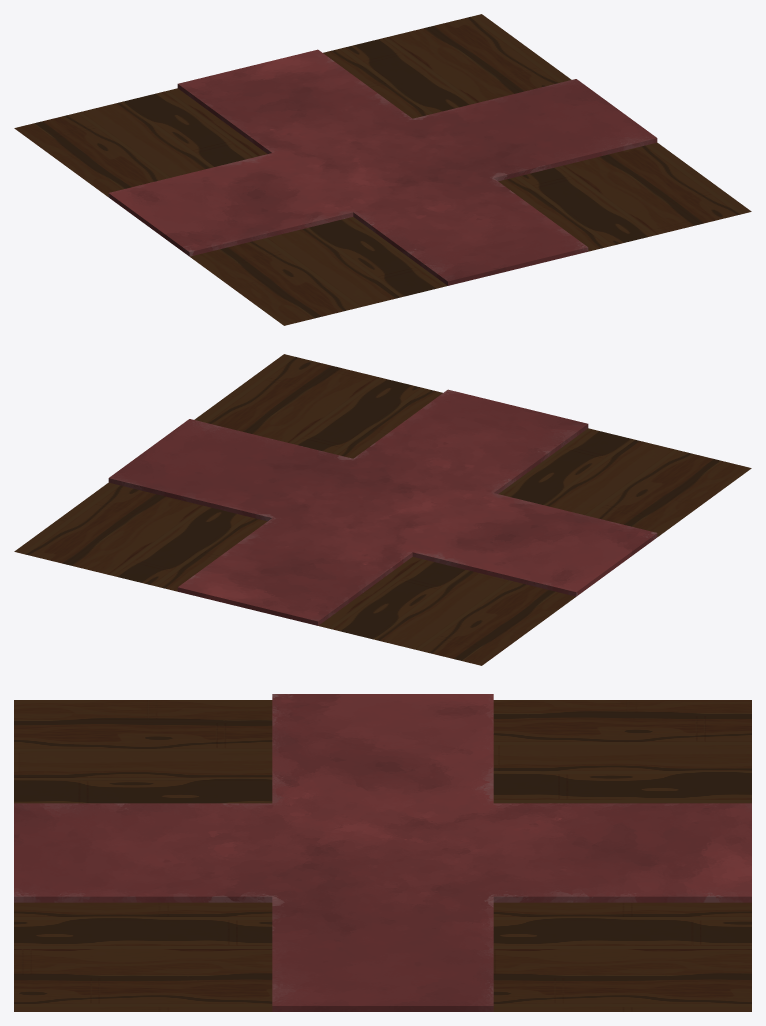
File: floor_X.fbx
3 views of the same model, one above another, from view 1: azimuth 30°, elevation 25°; view 2: azimuth 150°, elevation 25°; view 3: azimuth 270°, elevation 25° (orthographic). The views are drawn at different scales.
Visible parts, largest first — view 1: floor_X; view 2: floor_X; view 3: floor_X.
Boxes of the visible parts, left/top/right/bottom form: floor_X: left=14, top=14, right=751, bottom=325; floor_X: left=14, top=354, right=751, bottom=665; floor_X: left=14, top=694, right=751, bottom=1011.
Size of the model in its own units: 1650 by 15 by 1650.
1 material, 1 textured.
